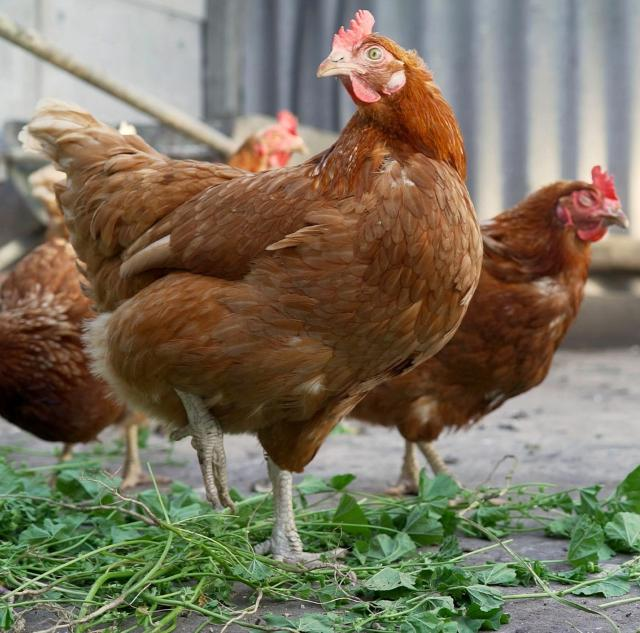Chicken: (20, 9, 482, 579), (341, 163, 633, 493), (0, 229, 176, 487), (229, 107, 303, 191)
